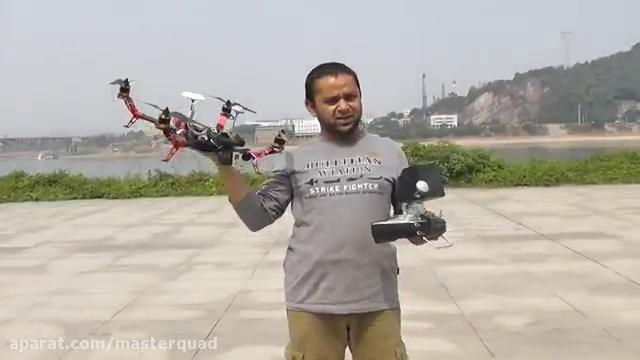drone: (106, 74, 290, 174)
